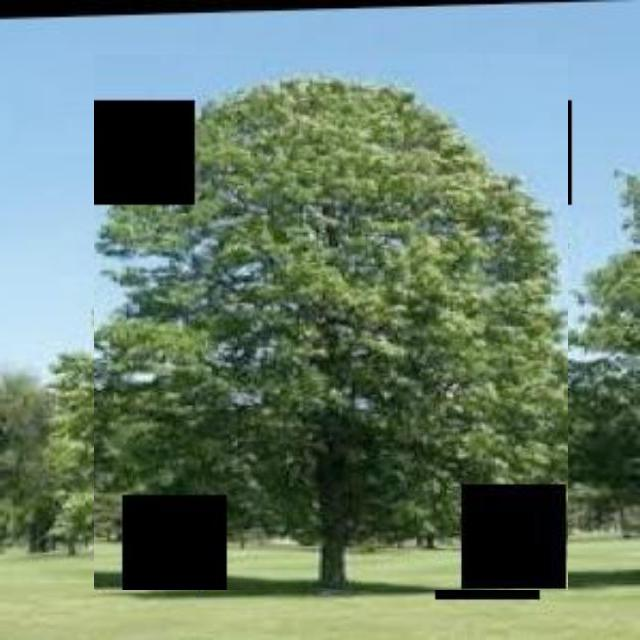tree: (94, 54, 568, 590)
